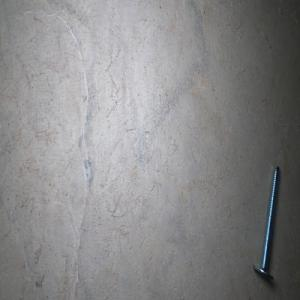Bolt: (252, 165, 280, 280)
